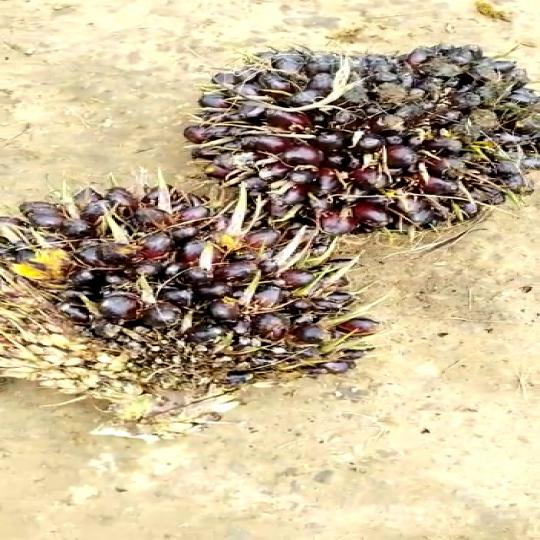mentah: (0, 174, 379, 420), (179, 43, 540, 237)
